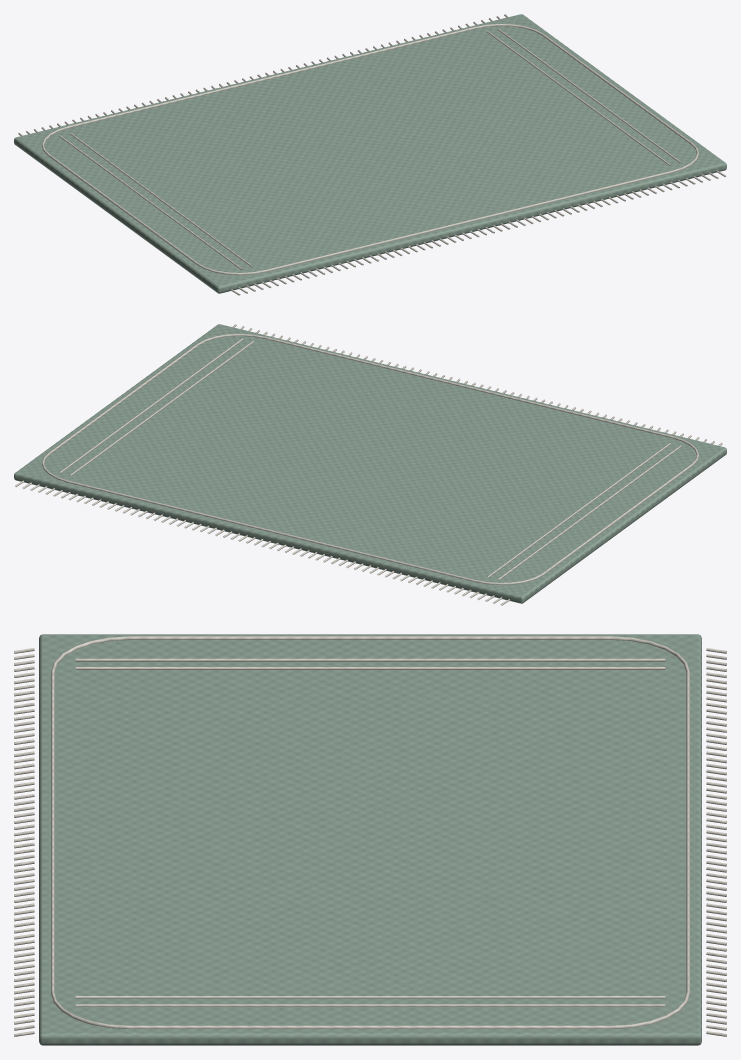
The model's file is rug.glb.
3 views of the same model, one above another, from view 1: azimuth 30°, elevation 25°; view 2: azimuth 150°, elevation 25°; view 3: azimuth 270°, elevation 25° (orthographic). The views are drawn at different scales.
Visible parts, largest first — view 1: 家具_rug; view 2: 家具_rug; view 3: 家具_rug.
Part boxes in pixels (x1,y1,x2,y2): 家具_rug: (14, 14, 726, 295); 家具_rug: (14, 324, 726, 605); 家具_rug: (14, 634, 726, 1045).
Size of the model in its own units: 2 by 0.035 by 1.5.
2 materials, 2 textured.
